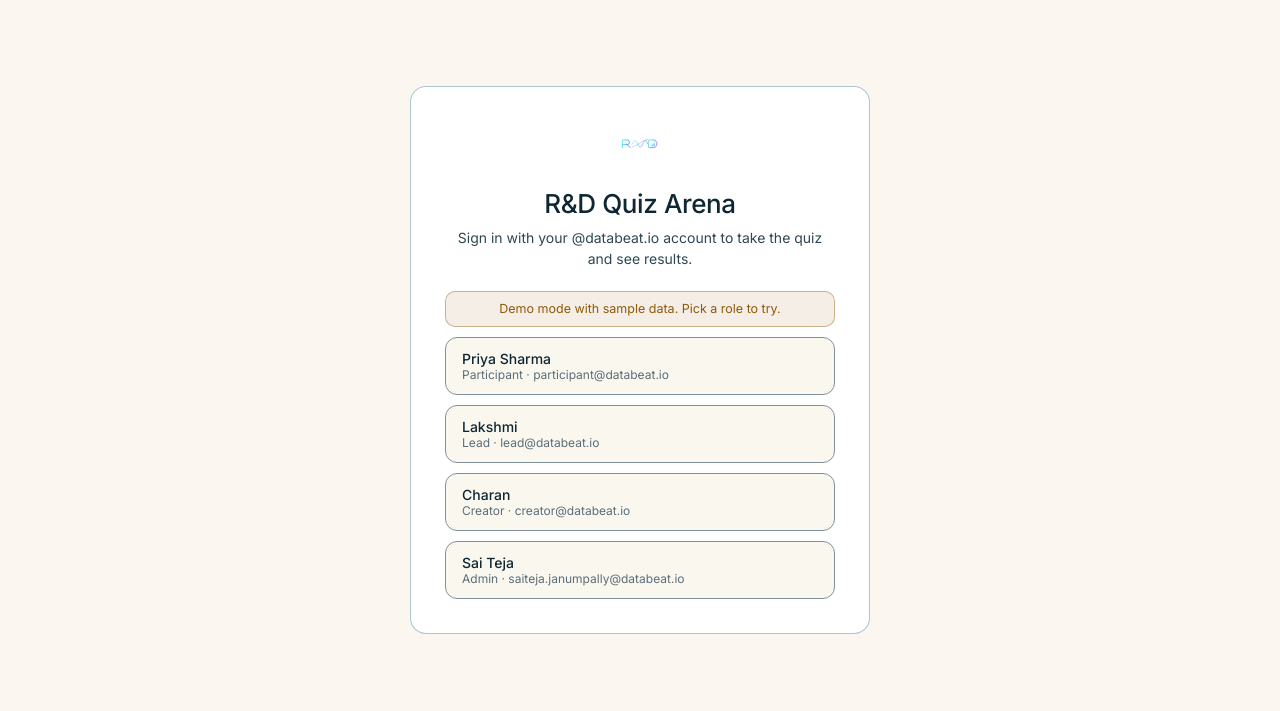
Test case: welcome tour › does not show again for someone who finished it
Step 1. Click the button "Priya Sharma Participant · participant@databeat.io" → (640, 366), box [445,337,835,395]
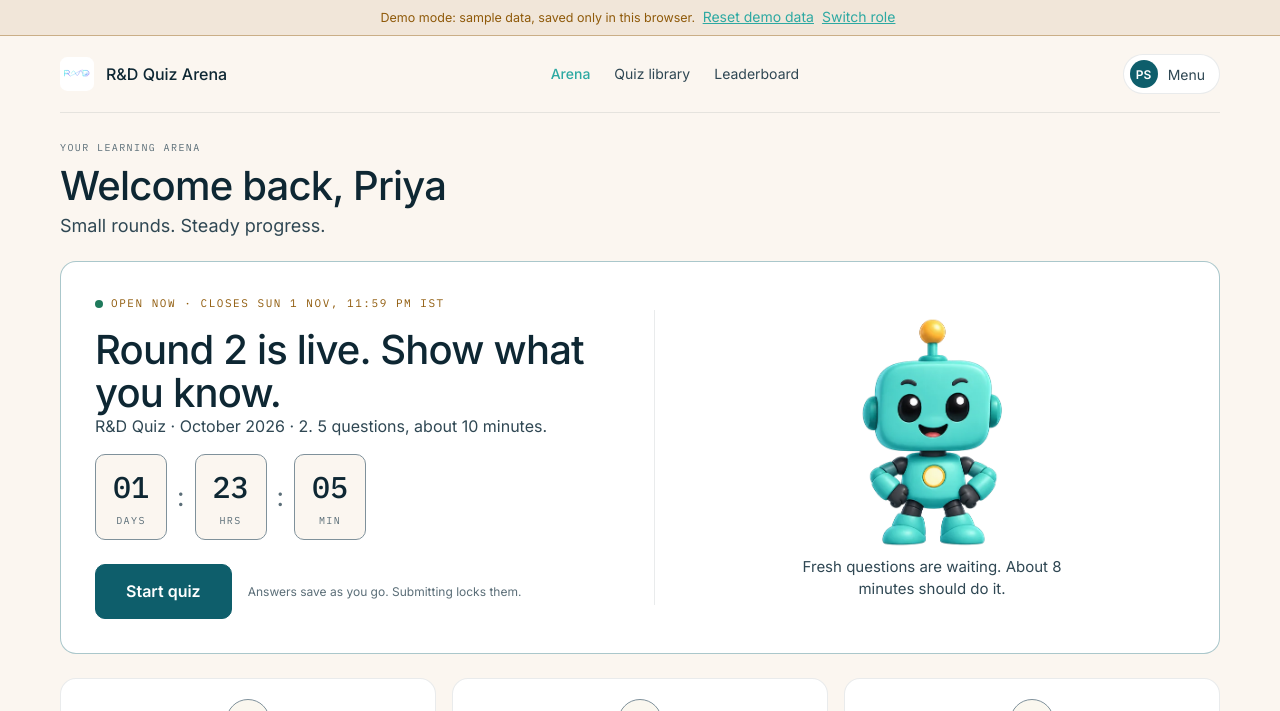
Now the heading "Welcome back, Priya" is shown, box [60,161,446,210]
